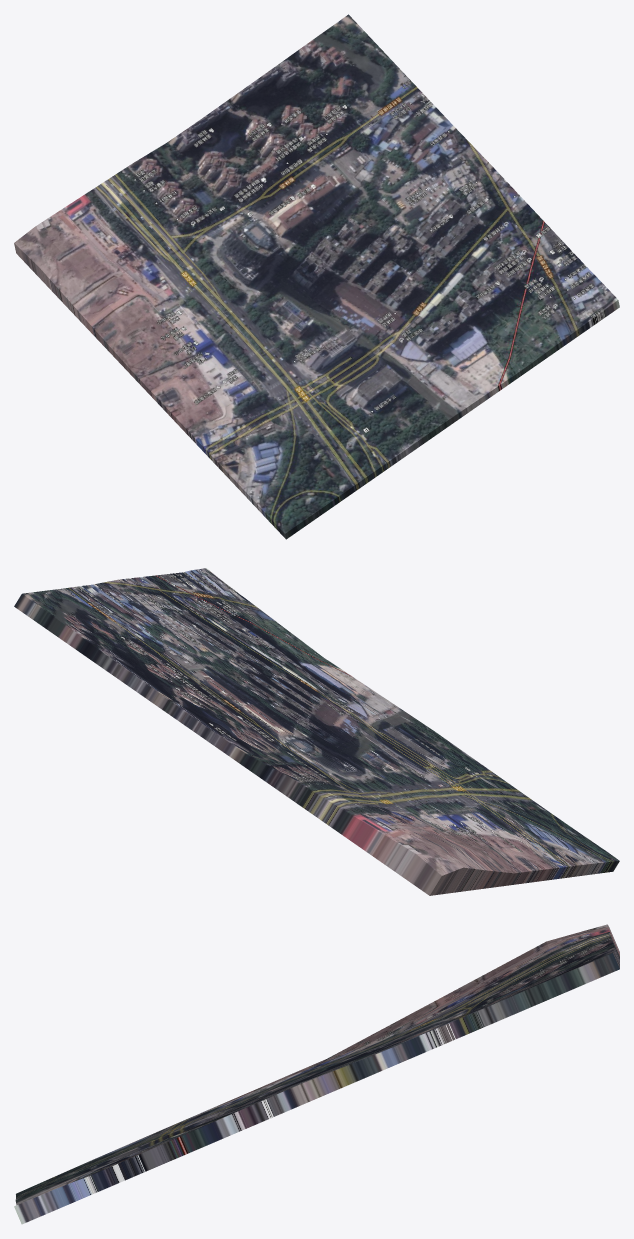
3 views of the same model, one above another, from view 1: azimuth 30°, elevation 25°; view 2: azimuth 150°, elevation 25°; view 3: azimuth 270°, elevation 25° (orthographic). The views are drawn at different scales.
Visible parts, largest first — view 1: 0_11_31; view 2: 0_11_31; view 3: 0_11_31.
Part boxes in pixels (<box>): 0_11_31: <box>14,14,619,539</box>; 0_11_31: <box>14,568,619,895</box>; 0_11_31: <box>14,924,619,1224</box>.
Size of the model in its own units: 601 by 442 by 549.
Materials: 1 (1 with a texture image).
